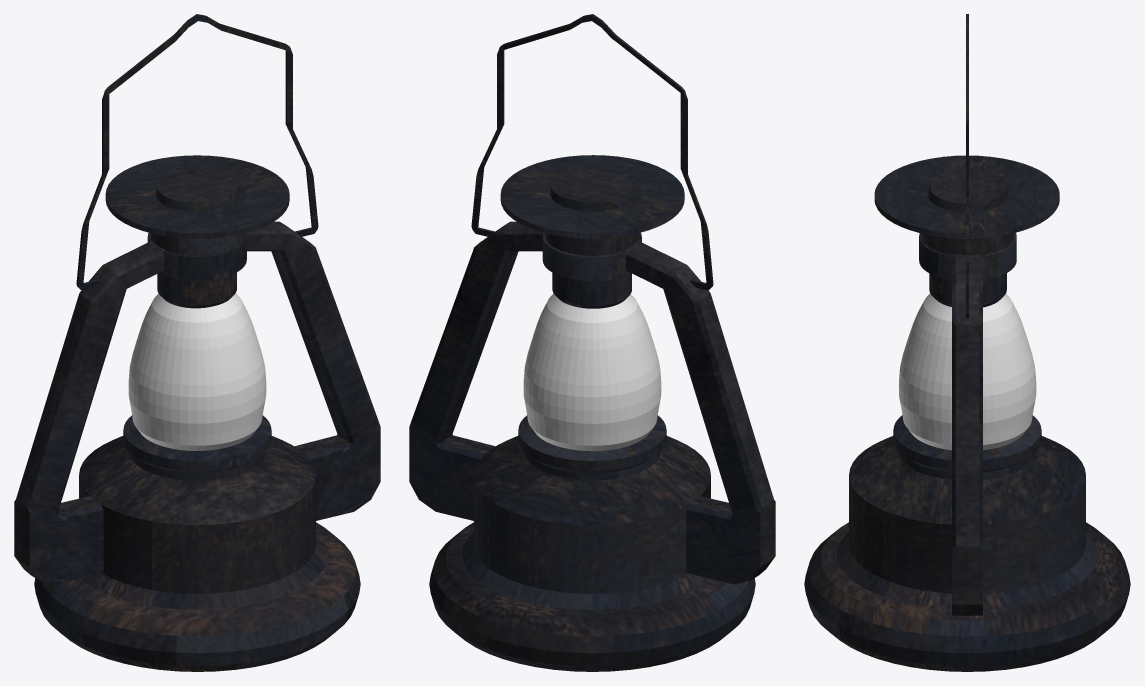
File: Lanterne.fbx
3 renders of one model, left to right at view 1: azimuth 30°, elevation 25°; view 2: azimuth 150°, elevation 25°; view 3: azimuth 270°, elevation 25°, orthographic.
Parts seen in each view (by area): view 1: Base model, Torus.001; view 2: Base model, Torus.001; view 3: Base model, Torus.001.
Boxes of the visible parts, left/top/right/bottom form: Base model: left=14, top=14, right=380, bottom=671; Torus.001: left=128, top=293, right=266, bottom=450; Base model: left=409, top=14, right=775, bottom=671; Torus.001: left=523, top=293, right=661, bottom=451; Base model: left=804, top=14, right=1130, bottom=671; Torus.001: left=899, top=293, right=1036, bottom=450.
Size of the model in its own units: 312 by 506 by 250.
